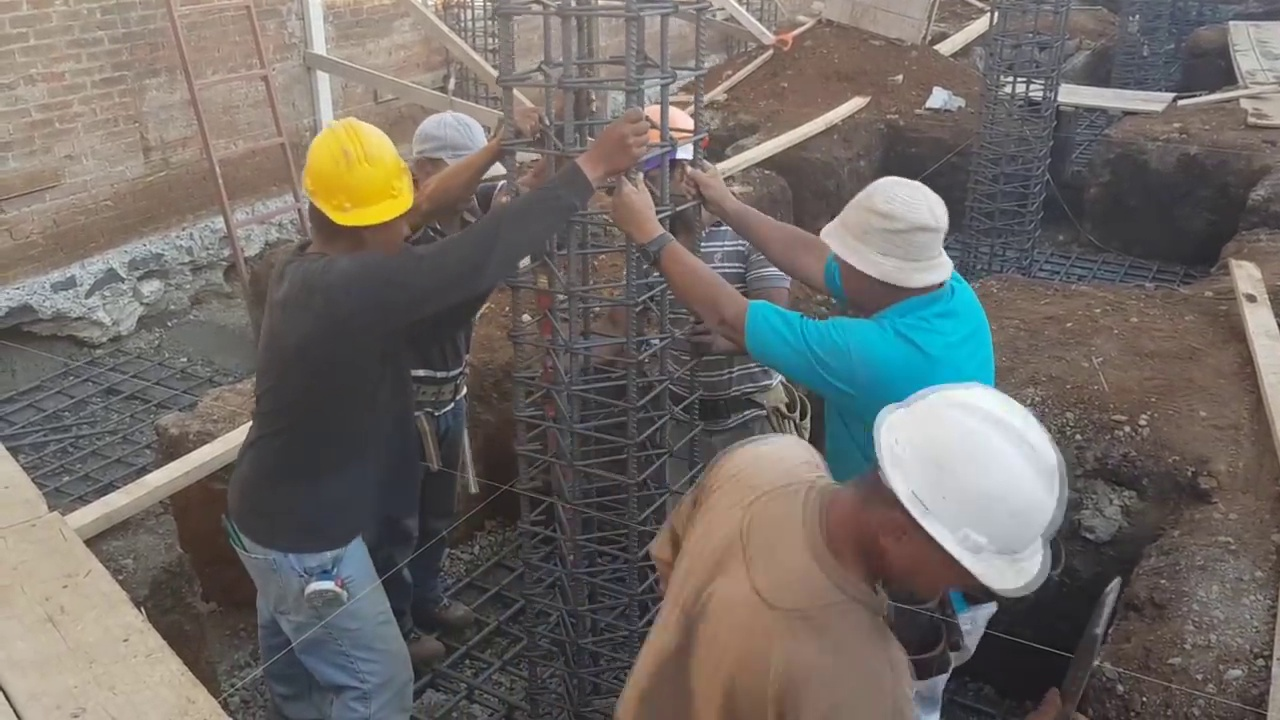helmet: (851, 378, 1075, 602), (299, 112, 420, 229), (625, 101, 720, 172)
helmet-off: (795, 174, 955, 317), (409, 104, 492, 226)
helmet-on: (804, 374, 1076, 606), (291, 110, 423, 265), (623, 102, 729, 242)
person: (230, 107, 647, 720), (612, 380, 1077, 720), (613, 153, 1000, 484), (371, 98, 547, 675), (623, 98, 814, 513)
